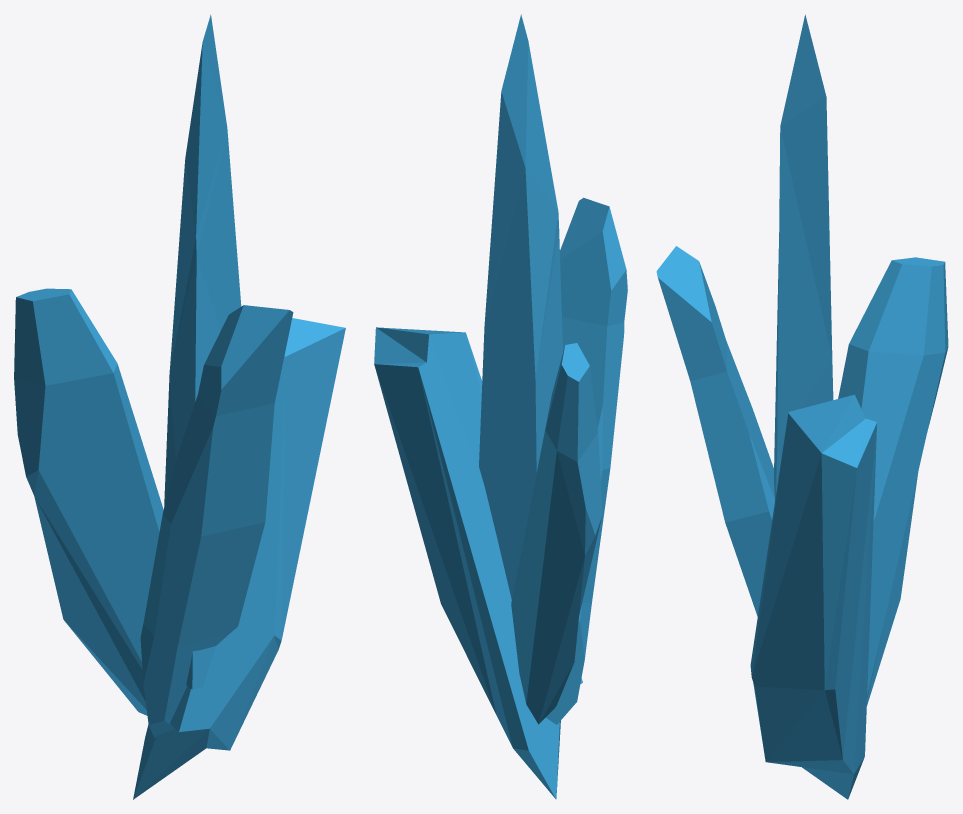
The model's file is brightRock.fbx.
The picture shows the model from 3 angles, left to right: view 1: azimuth 30°, elevation 25°; view 2: azimuth 150°, elevation 25°; view 3: azimuth 270°, elevation 25°; orthographic projection. The views are drawn at different scales.
Visible parts, largest first — view 1: Cube.019, Cube.021, Cube.016, Cube.024; view 2: Cube.016, Cube.024, Cube.019, Cube.021; view 3: Cube.016, Cube.019, Cube.024, Cube.021.
Boxes of the visible parts, x1,y1,x2,y2 form: Cube.019: (14, 288, 163, 715); Cube.021: (140, 305, 293, 737); Cube.016: (133, 318, 345, 799); Cube.024: (164, 14, 241, 689); Cube.016: (374, 327, 582, 799); Cube.024: (479, 14, 562, 599); Cube.019: (511, 343, 602, 724); Cube.021: (546, 197, 627, 724); Cube.016: (750, 394, 877, 799); Cube.019: (838, 257, 948, 706); Cube.024: (773, 14, 833, 500); Cube.021: (656, 246, 774, 616).
Bounding box in the file's own units: 16.23 × 44.58 × 14.48.
